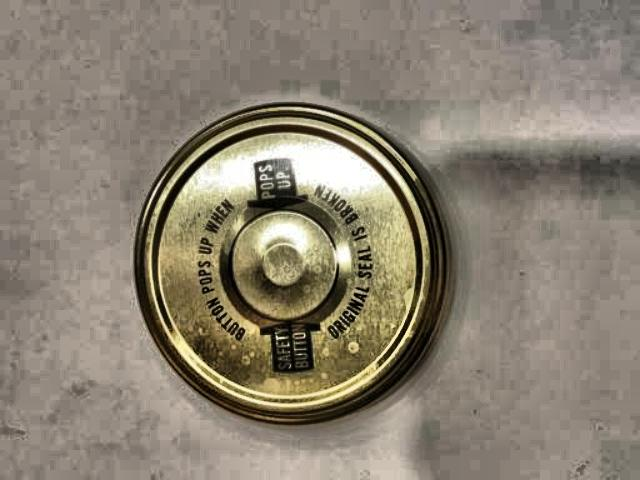Almennt: (105, 87, 453, 438)
